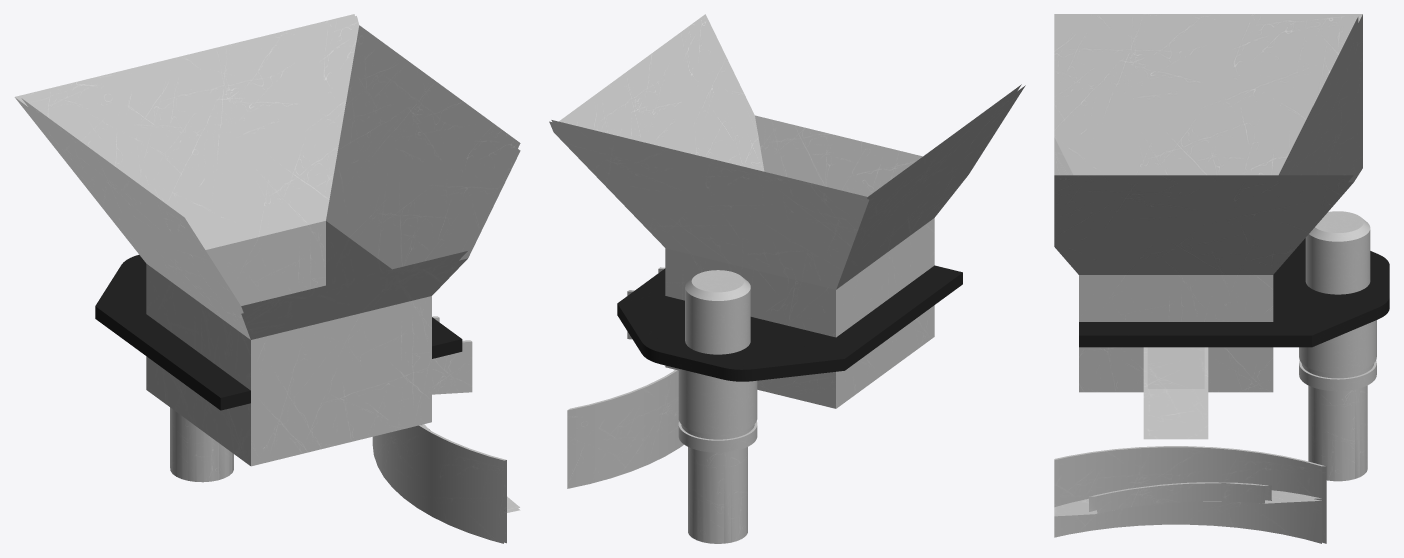
Rendered from Cube03_TightenerStation.glb.
3 renders of one model, left to right at view 1: azimuth 30°, elevation 25°; view 2: azimuth 150°, elevation 25°; view 3: azimuth 270°, elevation 25°, orthographic. The views are drawn at different scales.
Parts seen in each view (by area): view 1: color-2.003; view 2: color-2.003; view 3: color-2.003.
Part boxes in pixels (x1,y1,x2,y2): color-2.003: (14, 14, 520, 543); color-2.003: (549, 14, 1025, 543); color-2.003: (1054, 14, 1389, 543).
Size of the model in its own units: 0.2816 by 0.32 by 0.259.
Materials: 2 (2 with a texture image).
